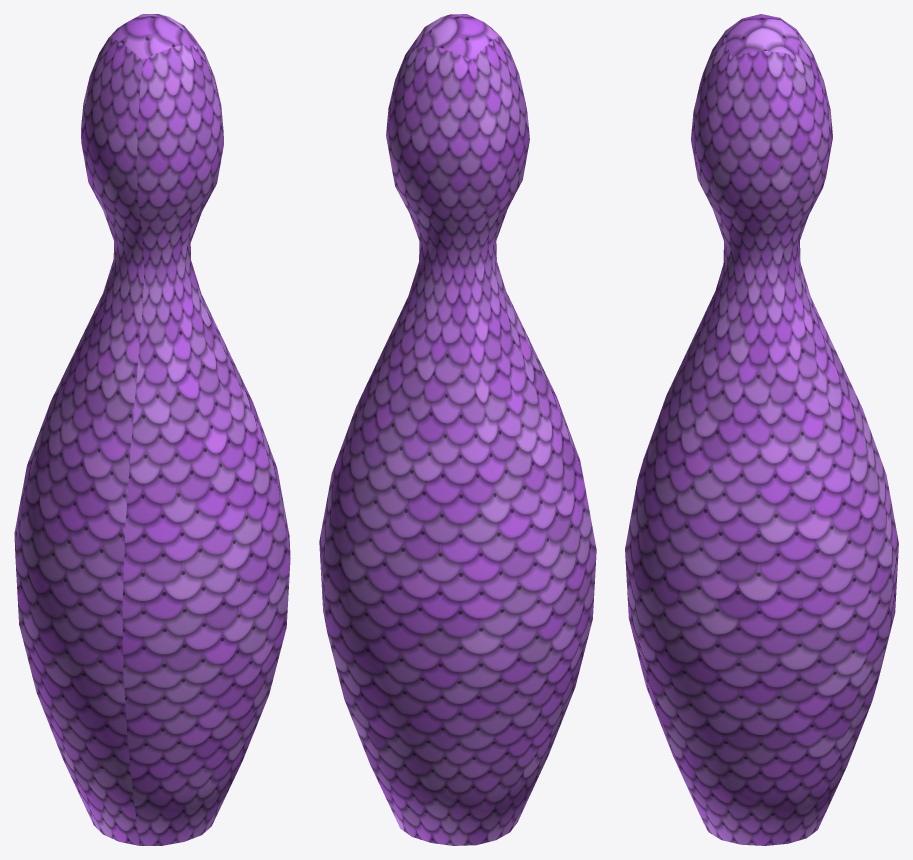
Rendered from pin_sparklyPurple.gltf.
3 views of the same model, side by side, from view 1: azimuth 30°, elevation 25°; view 2: azimuth 150°, elevation 25°; view 3: azimuth 270°, elevation 25° (orthographic).
Parts seen in each view (by area): view 1: pin_sparklyPurple; view 2: pin_sparklyPurple; view 3: pin_sparklyPurple.
Boxes of the visible parts, x1,y1,x2,y2 form: pin_sparklyPurple: (14, 14, 290, 845); pin_sparklyPurple: (319, 14, 596, 845); pin_sparklyPurple: (625, 14, 898, 845).
Bounding box in the file's own units: 0.1175 × 0.38 × 0.1175.
Materials: 1 (1 with a texture image).
